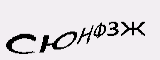Ф: (118, 31, 140, 57)
Ч: (75, 34, 94, 56)
Э: (97, 37, 117, 60)
Ю: (52, 28, 73, 56), (25, 29, 48, 51)
